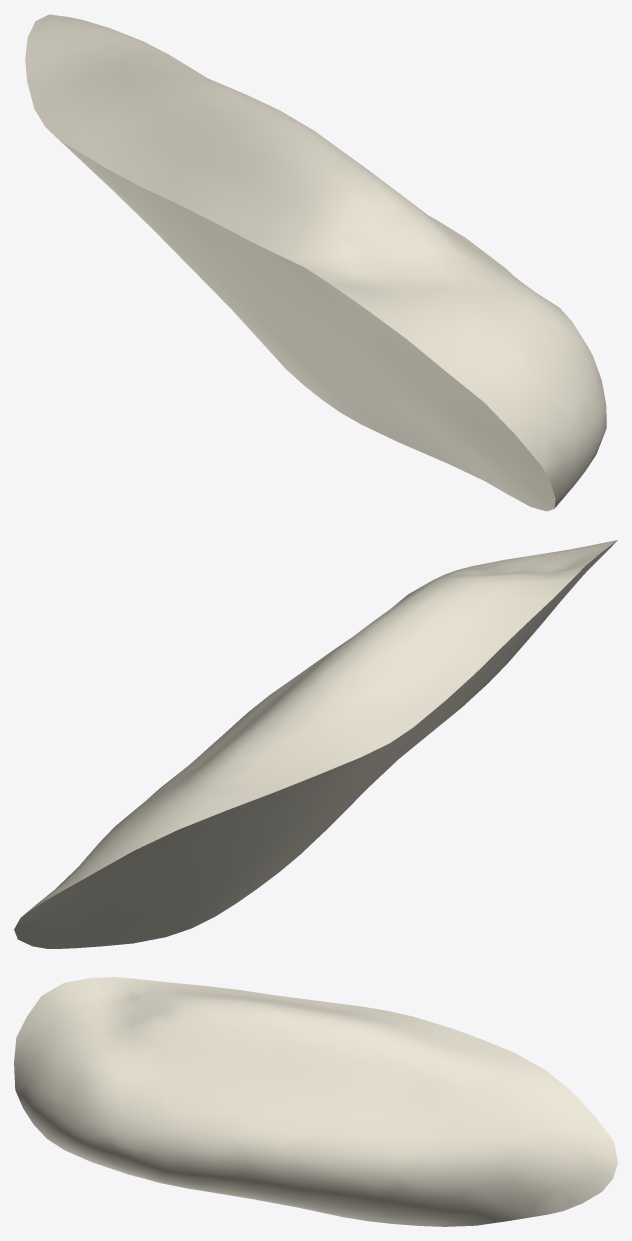
File: fma299620_mm1526m.glb
3 views of the same model, one above another, from view 1: azimuth 30°, elevation 25°; view 2: azimuth 150°, elevation 25°; view 3: azimuth 270°, elevation 25° (orthographic). The views are drawn at different scales.
Visible parts, largest first — view 1: FMA299620_MM1526M; view 2: FMA299620_MM1526M; view 3: FMA299620_MM1526M.
Part boxes in pixels (<box>): FMA299620_MM1526M: <box>25,14,606,511</box>; FMA299620_MM1526M: <box>14,540,617,948</box>; FMA299620_MM1526M: <box>14,977,617,1226</box>.
Size of the model in its own units: 0.00794 by 0.00816 by 0.0239.
